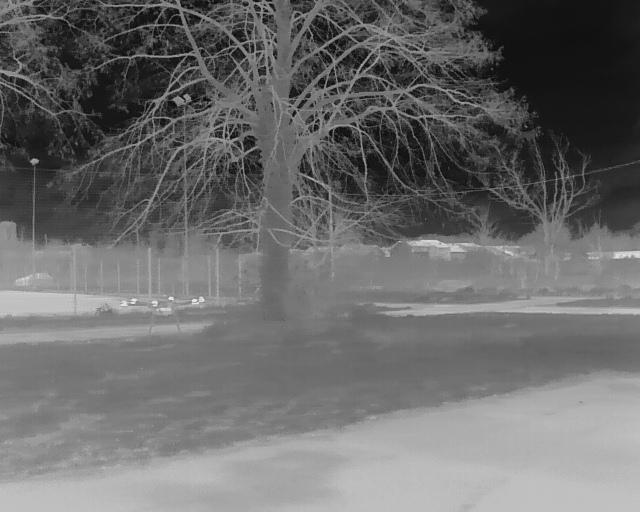drone: (112, 288, 215, 342)
